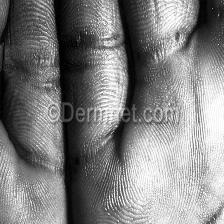Benign Marking or Mole: (14, 0, 65, 94), (83, 146, 136, 214), (146, 27, 196, 84), (79, 3, 116, 63)
